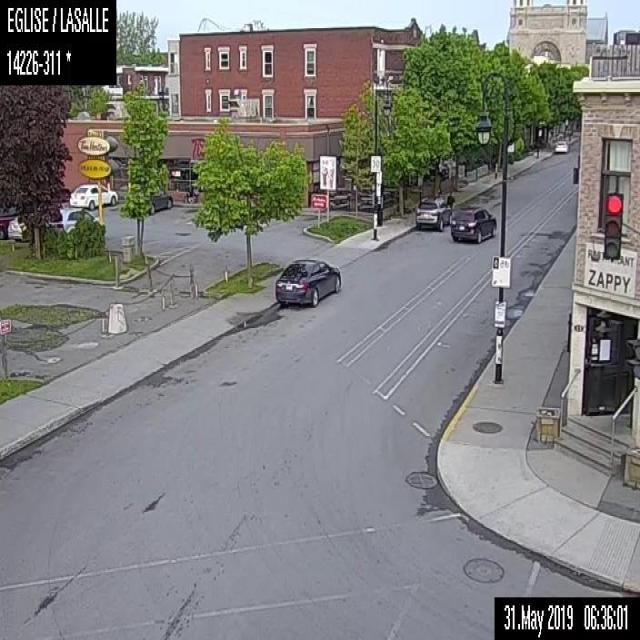pedestrian: (446, 190, 454, 206)
vehicle: (274, 256, 341, 307), (450, 208, 497, 242), (68, 180, 117, 210), (415, 196, 450, 230), (49, 207, 103, 225), (150, 189, 173, 214), (8, 212, 27, 240), (553, 138, 567, 150)
